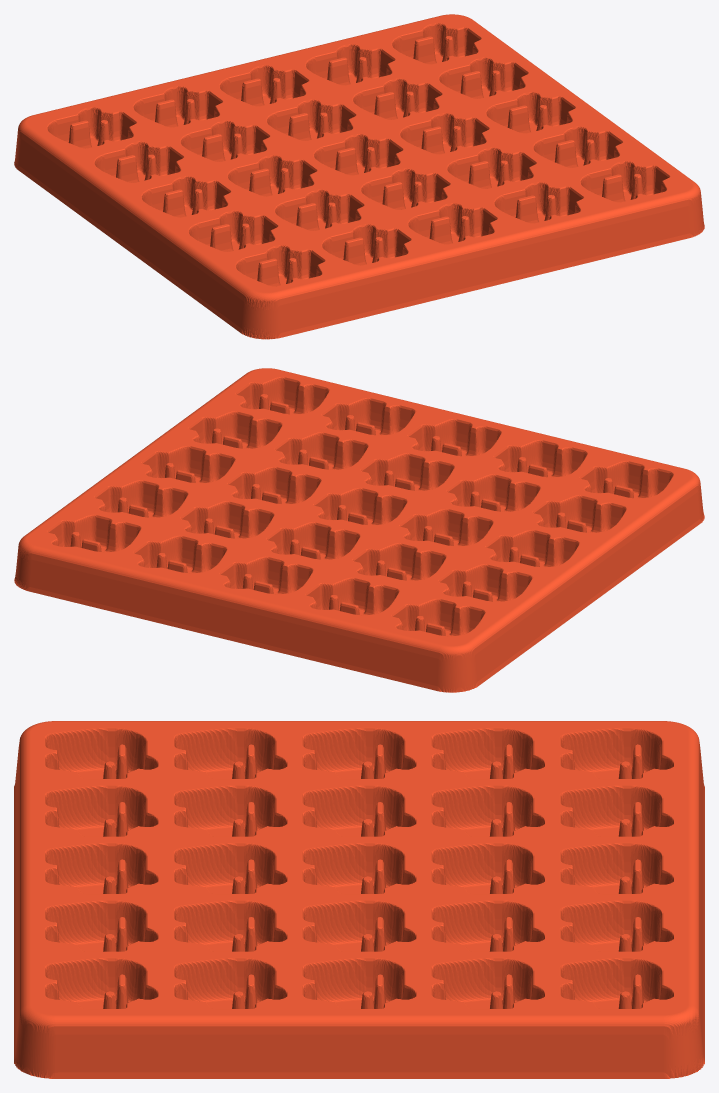
The model's file is mold.glb.
3 views of the same model, one above another, from view 1: azimuth 30°, elevation 25°; view 2: azimuth 150°, elevation 25°; view 3: azimuth 270°, elevation 25° (orthographic). The views are drawn at different scales.
Parts seen in each view (by area): view 1: geometry_0; view 2: geometry_0; view 3: geometry_0.
Part boxes in pixels (x1,y1,x2,y2): geometry_0: [14, 14, 704, 339]; geometry_0: [14, 368, 704, 692]; geometry_0: [14, 721, 704, 1078].
Bounding box in the file's own units: 0.1584 × 0.0136 × 0.1506.
